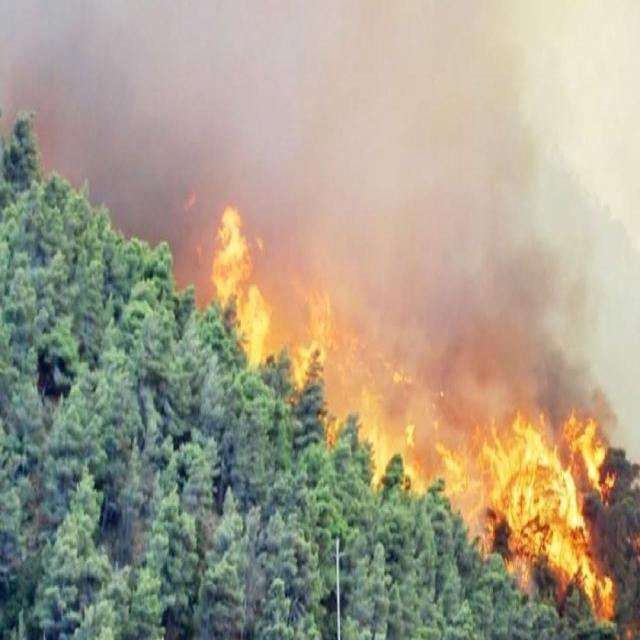Fire: (212, 205, 616, 620)
Smoke: (1, 1, 620, 554)
